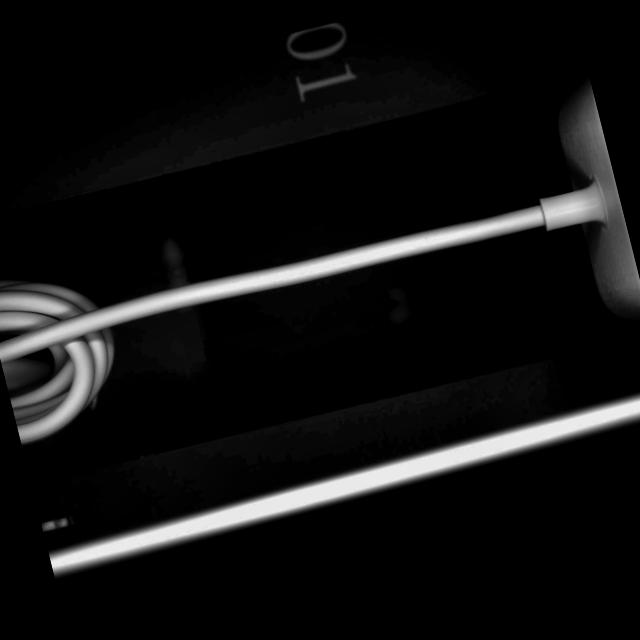Cable: (0, 64, 640, 487)
